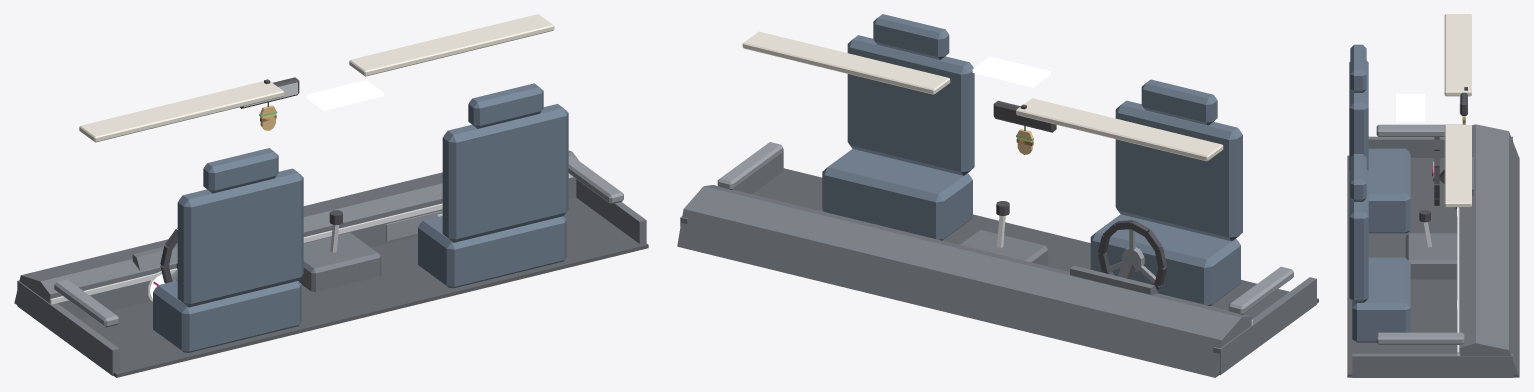
The model's file is truck_cab.glb.
The picture shows the model from 3 angles, left to right: view 1: azimuth 30°, elevation 25°; view 2: azimuth 150°, elevation 25°; view 3: azimuth 270°, elevation 25°; orthographic projection. The views are drawn at different scales.
Visible parts, largest first — view 1: cab_static_asiento, cab_static_tablero_cabina, cab_static_piso_cabina, cab_static_crema, cab_static_tablero_claro, cab_static_cromo, cab_static_brillo_techo; view 2: cab_static_asiento, cab_static_tablero_cabina, cab_static_crema, cab_static_piso_cabina, cab_static_tablero_claro, cab_static_brillo_techo, cab_volante_oscuro, cab_static_oscuro, cab_volante_tablero_claro; view 3: cab_static_tablero_cabina, cab_static_asiento, cab_static_piso_cabina, cab_static_crema, cab_static_tablero_claro, cab_static_brillo_techo, cab_static_cromo, cab_volante_oscuro, cab_static_oscuro.
Part boxes in pixels (left/top/right/bottom): cab_static_asiento: left=153, top=83, right=568, bottom=352; cab_static_tablero_cabina: left=14, top=150, right=646, bottom=375; cab_static_piso_cabina: left=79, top=197, right=648, bottom=377; cab_static_crema: left=79, top=14, right=554, bottom=142; cab_static_tablero_claro: left=54, top=156, right=623, bottom=327; cab_static_cromo: left=49, top=173, right=573, bottom=304; cab_static_brillo_techo: left=306, top=80, right=383, bottom=110; cab_static_asiento: left=822, top=14, right=1242, bottom=305; cab_static_tablero_cabina: left=677, top=148, right=1316, bottom=377; cab_static_crema: left=742, top=31, right=1223, bottom=161; cab_static_piso_cabina: left=752, top=168, right=1318, bottom=376; cab_static_tablero_claro: left=717, top=142, right=1293, bottom=314; cab_static_brillo_techo: left=972, top=56, right=1050, bottom=87; cab_volante_oscuro: left=1098, top=220, right=1166, bottom=289; cab_static_oscuro: left=993, top=100, right=1135, bottom=279; cab_volante_tablero_claro: left=1107, top=229, right=1155, bottom=283; cab_static_tablero_cabina: left=1352, top=124, right=1519, bottom=377; cab_static_asiento: left=1349, top=44, right=1410, bottom=342; cab_static_piso_cabina: left=1347, top=155, right=1517, bottom=377; cab_static_crema: left=1444, top=14, right=1471, bottom=207; cab_static_tablero_claro: left=1376, top=124, right=1464, bottom=344; cab_static_brillo_techo: left=1396, top=94, right=1425, bottom=121; cab_static_cromo: left=1423, top=207, right=1460, bottom=355; cab_volante_oscuro: left=1434, top=136, right=1439, bottom=205; cab_static_oscuro: left=1419, top=87, right=1467, bottom=222.
Bounding box in the file's own units: 2.67 × 0.9222 × 0.885.
